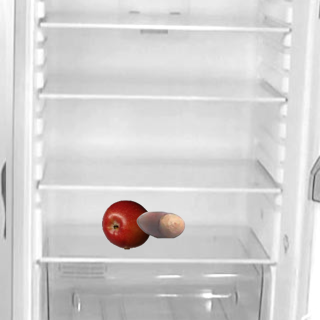Apple Braeburn: (101, 199, 151, 249)
Hazelnut: (135, 199, 185, 249)
